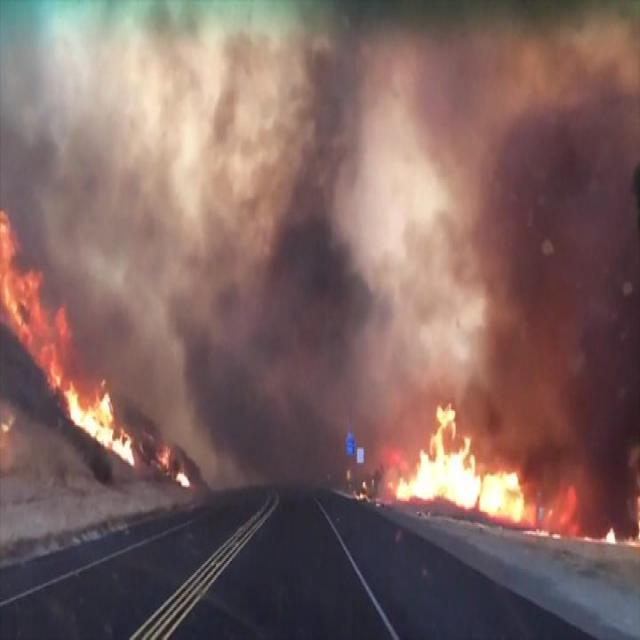Fire: (382, 406, 531, 529), (48, 376, 168, 477)
Smoke: (0, 24, 640, 517)
